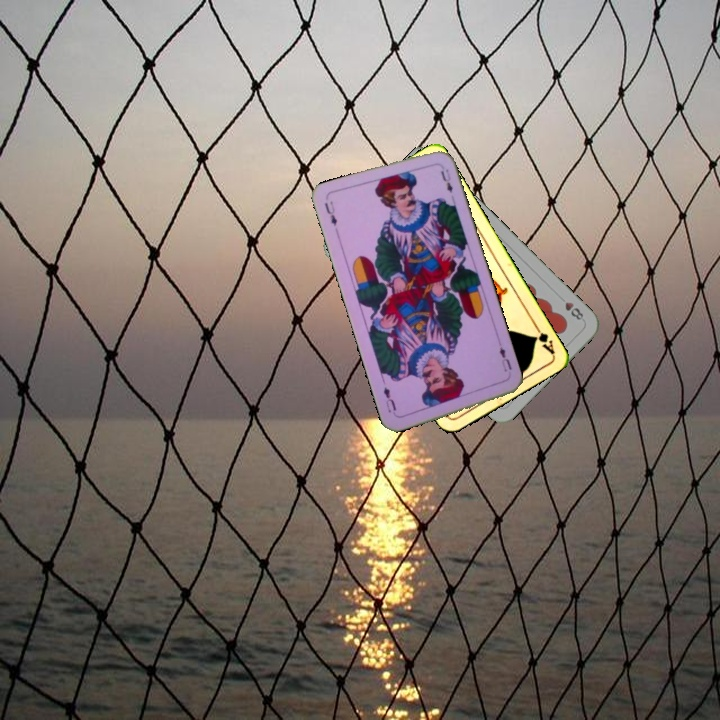EU: (320, 197, 340, 229), (495, 343, 514, 374)
GA: (529, 319, 557, 356)
H8: (561, 298, 586, 323)
